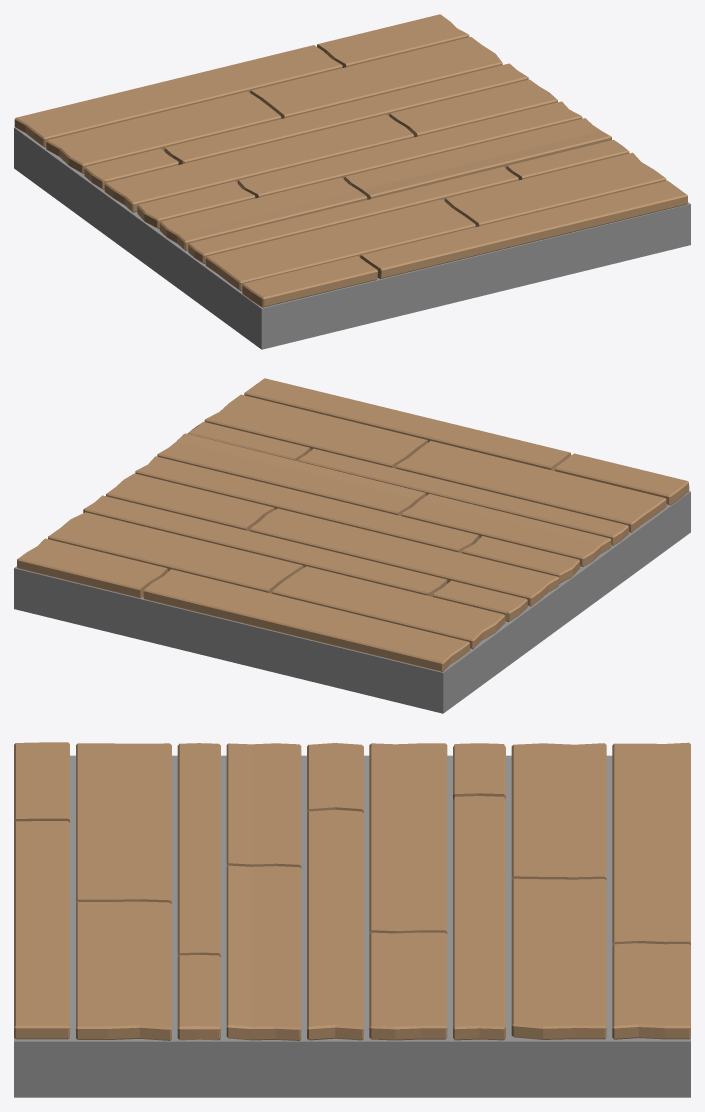
Rendered from Foundation B.fbx.
The picture shows the model from 3 angles, top to bottom: view 1: azimuth 30°, elevation 25°; view 2: azimuth 150°, elevation 25°; view 3: azimuth 270°, elevation 25°; orthographic projection. The views are drawn at different scales.
Visible parts, largest first — view 1: Foundation B; view 2: Foundation B; view 3: Foundation B.
Boxes of the visible parts, bbox=[...] form: Foundation B: bbox=[14, 14, 690, 349]; Foundation B: bbox=[14, 378, 690, 713]; Foundation B: bbox=[14, 742, 690, 1097].
Bounding box in the file's own units: 330 × 38.38 × 330.
